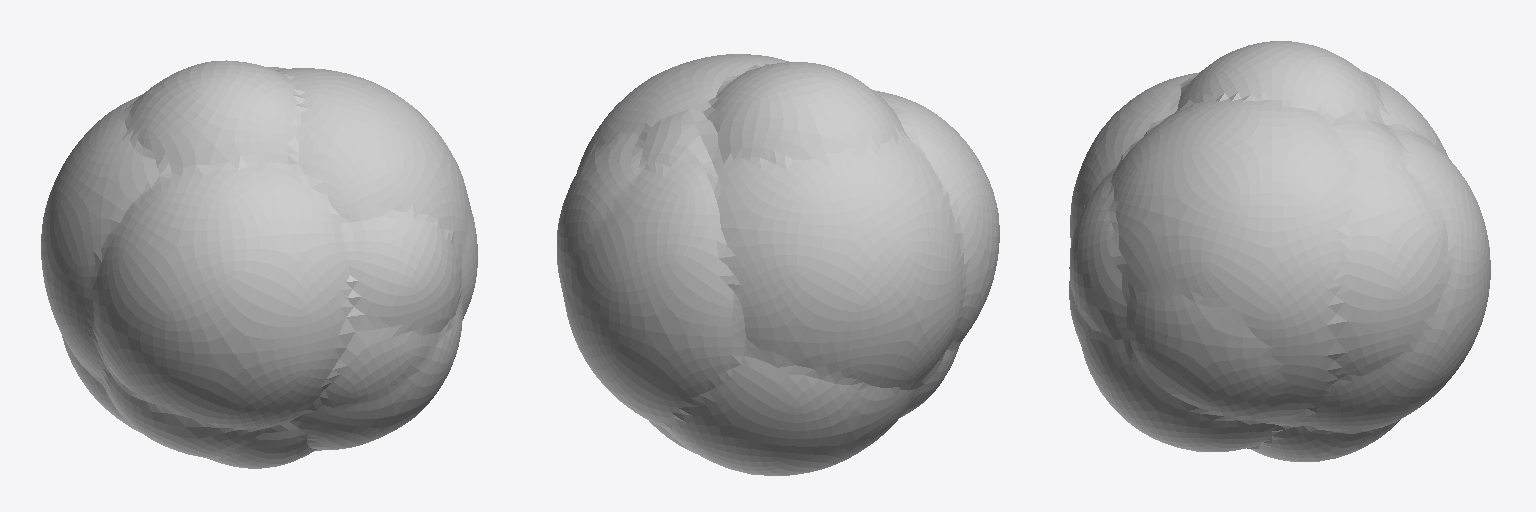
The model's file is enemyDead.obj.
The picture shows the model from 3 angles: view 1: azimuth 30°, elevation 25°; view 2: azimuth 150°, elevation 25°; view 3: azimuth 270°, elevation 25°; orthographic projection.
Visible parts, largest first — view 1: ICO球; view 2: ICO球; view 3: ICO球.
Boxes of the visible parts, box(x1,y1,x2,y2) form: ICO球: box(41, 60, 477, 468); ICO球: box(557, 54, 999, 475); ICO球: box(1069, 41, 1490, 461).
Bounding box in the file's own units: 2.02 × 1.98 × 1.99.